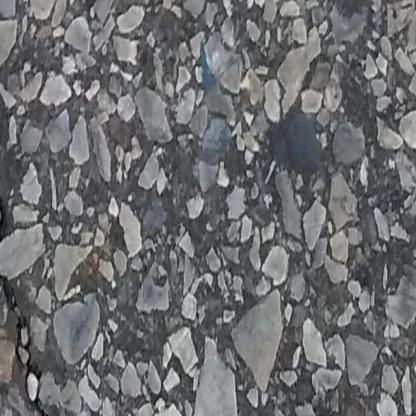Cracks: (0, 63, 59, 416)
